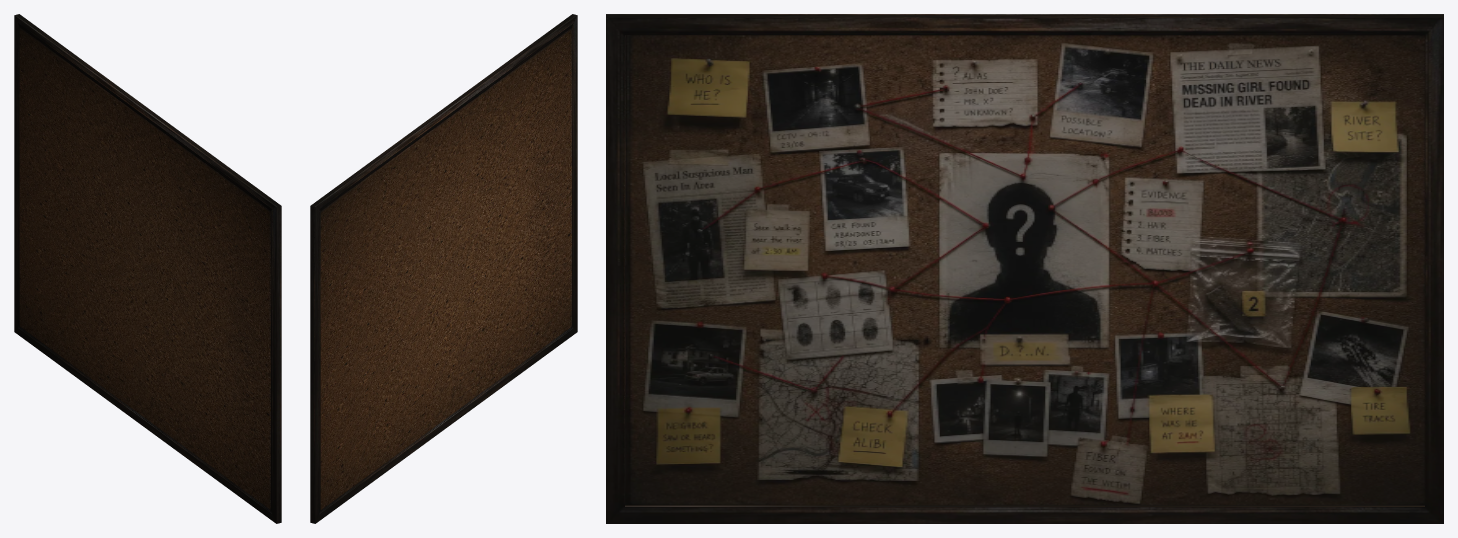
The model's file is board.glb.
3 views of the same model, side by side, from view 1: azimuth 30°, elevation 25°; view 2: azimuth 150°, elevation 25°; view 3: azimuth 270°, elevation 25° (orthographic). The views are drawn at different scales.
Parts seen in each view (by area): view 1: Board; view 2: Board; view 3: Board.
Boxes of the visible parts, <box> form: Board: <box>14,14,281,523</box>; Board: <box>310,14,577,523</box>; Board: <box>606,14,1443,523</box>.
Size of the model in its own units: 0.23 by 13.31 by 19.97.
1 material, 1 textured.
